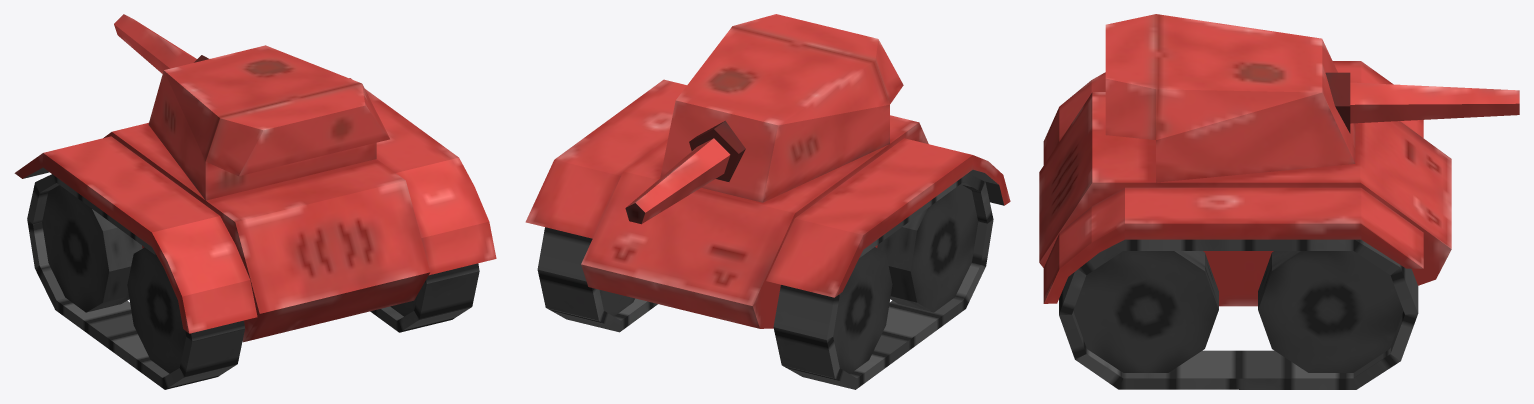
Rendered from tank2.glb.
3 views of the same model, side by side, from view 1: azimuth 30°, elevation 25°; view 2: azimuth 150°, elevation 25°; view 3: azimuth 270°, elevation 25° (orthographic). The views are drawn at different scales.
Visible parts, largest first — view 1: Tank; view 2: Tank; view 3: Tank.
Boxes of the visible parts, bbox=[...] form: Tank: bbox=[14, 14, 496, 389]; Tank: bbox=[525, 14, 1010, 389]; Tank: bbox=[1039, 14, 1519, 389].
Bounding box in the file's own units: 1.77 × 1.33 × 2.21.
1 material, 1 textured.
